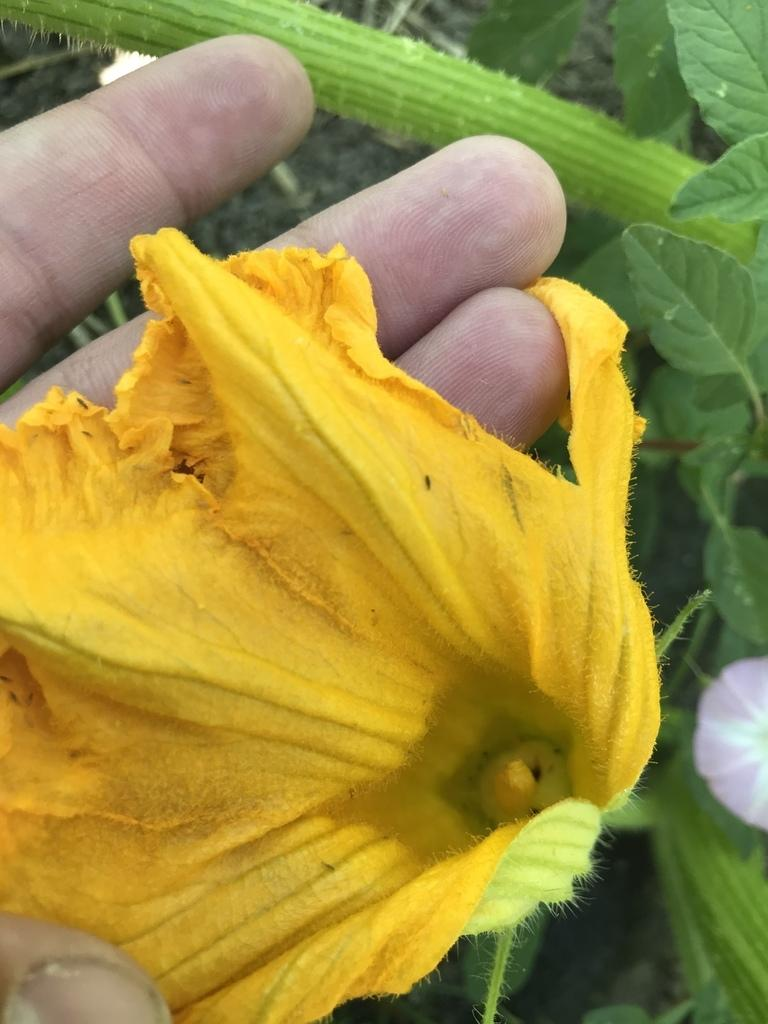tiny_pests: (419, 467, 438, 499)
